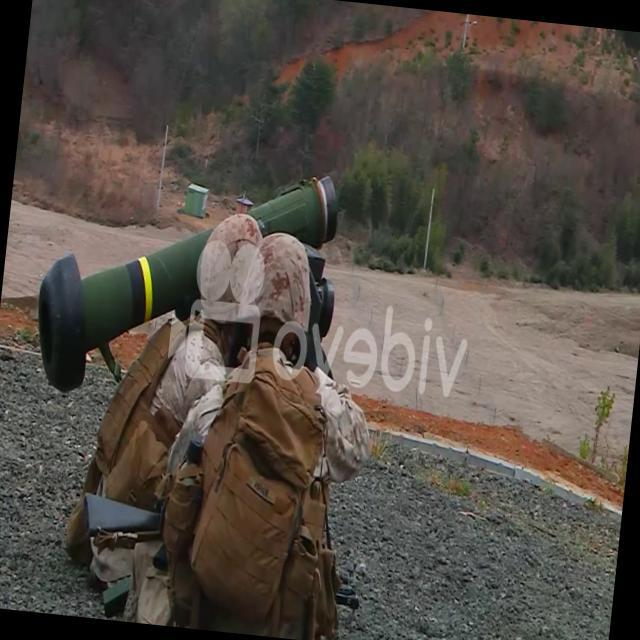rocket: (29, 144, 340, 417)
